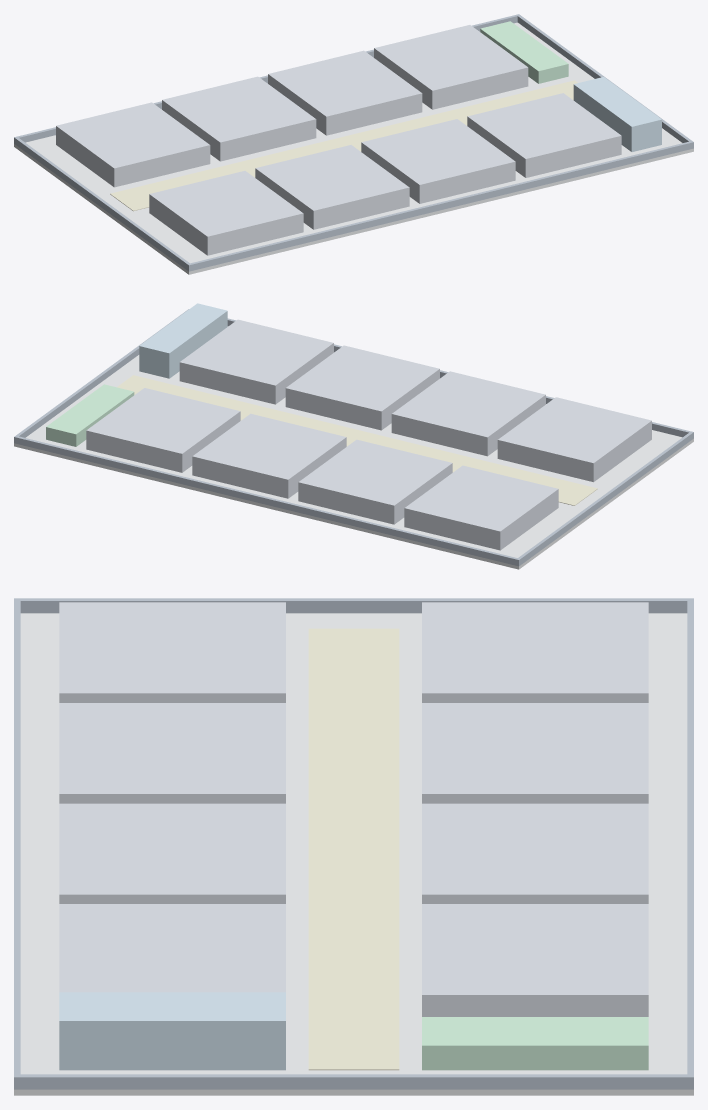
The model's file is mall-floor.glb.
3 views of the same model, one above another, from view 1: azimuth 30°, elevation 25°; view 2: azimuth 150°, elevation 25°; view 3: azimuth 270°, elevation 25° (orthographic). The views are drawn at different scales.
Visible parts, largest first — view 1: slab, f1-shop-1, f1-shop-5, f1-shop-6, f1-shop-8, f1-shop-3, f1-shop-4, f1-shop-7, f1-shop-2, corridor, wall-south, f1-lift (+4 smaller); view 2: slab, f1-shop-5, f1-shop-1, f1-shop-2, f1-shop-7, f1-shop-3, f1-shop-4, f1-shop-6, f1-shop-8, corridor, wall-north, f1-lift (+4 smaller); view 3: slab, corridor, f1-shop-4, f1-shop-1, f1-shop-2, f1-shop-3, f1-shop-5, f1-shop-6, f1-shop-7, f1-shop-8, f1-lift, f1-stairs (+4 smaller).
Boxes of the visible parts, bbox=[...] form: slab: bbox=[14, 22, 693, 274]; f1-shop-1: bbox=[56, 102, 210, 187]; f1-shop-5: bbox=[149, 171, 303, 255]; f1-shop-6: bbox=[255, 145, 409, 229]; f1-shop-8: bbox=[467, 93, 621, 177]; f1-shop-3: bbox=[268, 50, 422, 135]; f1-shop-4: bbox=[374, 25, 528, 109]; f1-shop-7: bbox=[361, 119, 515, 203]; f1-shop-2: bbox=[162, 76, 316, 161]; corridor: bbox=[110, 80, 577, 211]; wall-south: bbox=[187, 141, 693, 271]; f1-lift: bbox=[573, 77, 661, 151]; slab: bbox=[14, 326, 693, 569]; f1-shop-5: bbox=[497, 397, 651, 482]; f1-shop-1: bbox=[404, 465, 558, 550]; f1-shop-2: bbox=[298, 439, 452, 524]; f1-shop-7: bbox=[285, 345, 439, 430]; f1-shop-3: bbox=[192, 413, 346, 498]; f1-shop-4: bbox=[86, 388, 240, 472]; f1-shop-6: bbox=[391, 371, 545, 456]; f1-shop-8: bbox=[179, 319, 333, 404]; corridor: bbox=[117, 375, 597, 505]; wall-north: bbox=[14, 436, 520, 566]; f1-lift: bbox=[139, 303, 227, 378]; slab: bbox=[14, 613, 693, 1095]; corridor: bbox=[308, 628, 399, 1070]; f1-shop-4: bbox=[422, 904, 648, 1016]; f1-shop-1: bbox=[422, 602, 648, 702]; f1-shop-2: bbox=[422, 703, 648, 803]; f1-shop-3: bbox=[422, 803, 648, 903]; f1-shop-5: bbox=[59, 602, 285, 702]; f1-shop-6: bbox=[59, 703, 285, 803]; f1-shop-7: bbox=[59, 803, 285, 903]; f1-shop-8: bbox=[59, 904, 285, 992]; f1-lift: bbox=[59, 992, 285, 1070]; f1-stairs: bbox=[422, 1017, 648, 1070].
Bounding box in the file's own units: 1000 × 54 × 600.
